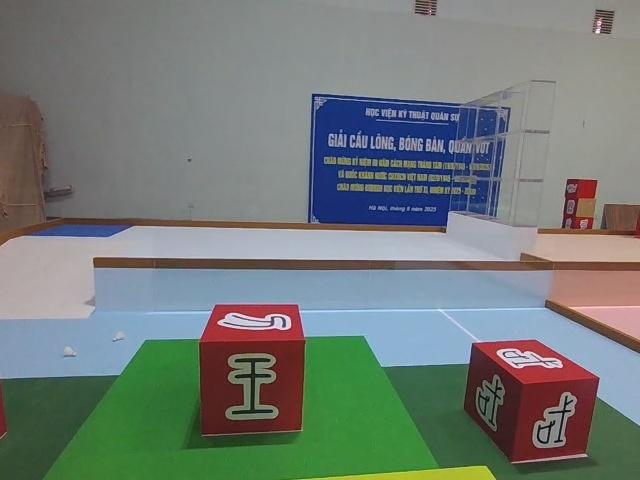R2 Fake: (196, 300, 309, 440)
R2 Real: (463, 337, 599, 464)
